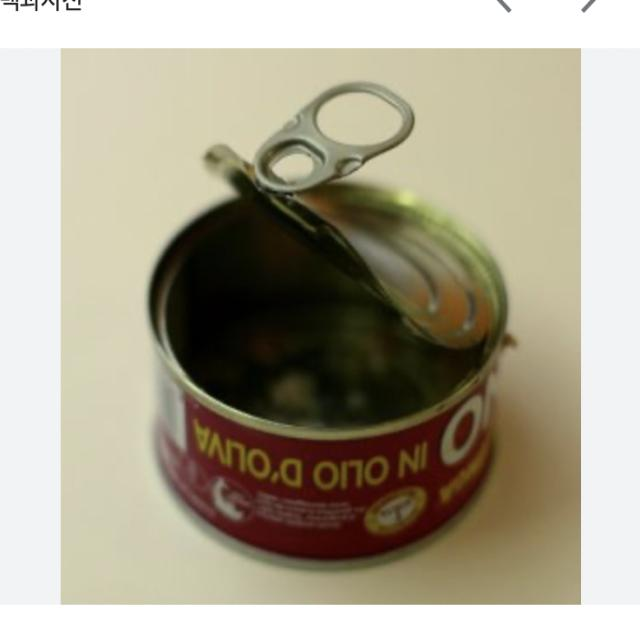recyclable: (121, 72, 522, 570)
